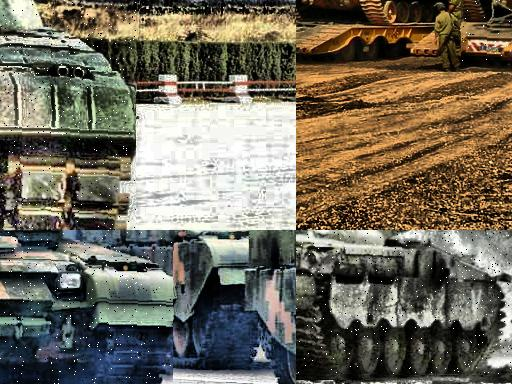tanks: (1, 1, 137, 231), (297, 231, 503, 376), (1, 231, 174, 384), (78, 231, 259, 369), (297, 1, 447, 61), (247, 231, 297, 384)
